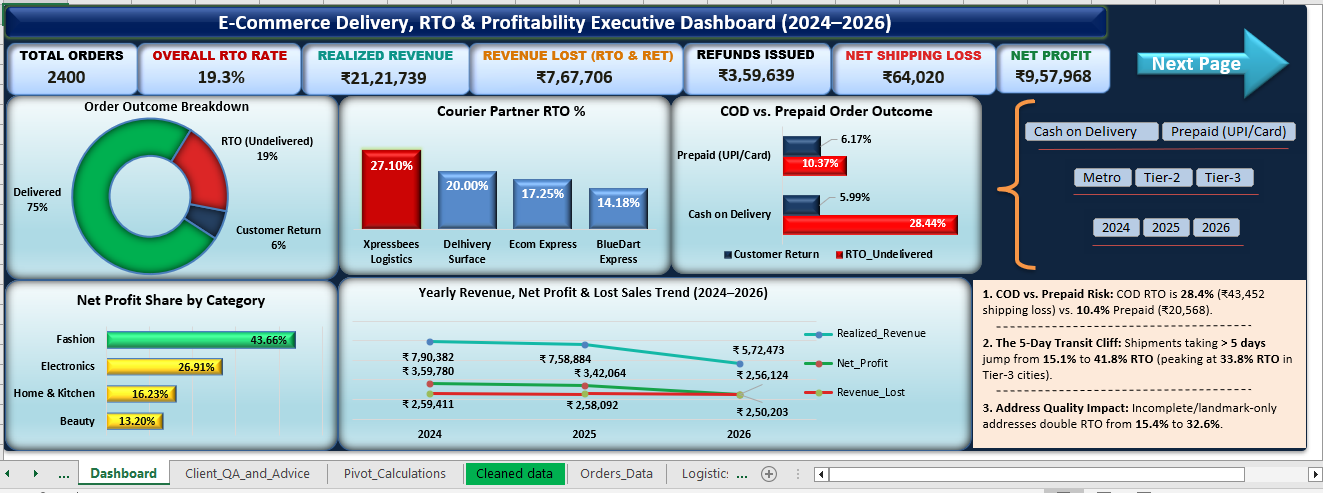

The page's visual inventory and layout, read from the dashboard file:
{"tool":"powerbi","page":{"name":"Executive Summary","canvas":[1920,1080],"ordinal":0},"visuals":[{"type":"cardVisual","fields":{"Data":["Measures_.TOTAL ORDERS"]},"box":[9.4,57,216.2,74.9],"z":0},{"type":"cardVisual","fields":{"Data":["Measures_.NET SHIPPING LOSS"]},"box":[312.5,133.9,263.6,74.4],"z":1000},{"type":"cardVisual","fields":{"Data":["Measures_.TOTAL REFUND ISSUED"]},"box":[8.6,134.8,299.7,74.9],"z":2000},{"type":"cardVisual","fields":{"Data":["Measures_.REVENUE LOST (RTO & RET)"]},"box":[761.4,57.8,351,74.9],"z":3000},{"type":"cardVisual","fields":{"Data":["Measures_.REALIZED REVENUE"]},"box":[493.4,57.8,263.3,74.9],"z":4000},{"type":"cardVisual","fields":{"Data":["Measures_.OVERALL RTO RATE"]},"box":[228.4,57.8,261.1,74.9],"z":5000},{"type":"cardVisual","fields":{"Data":["Measures_.TOTAL NET PROFIT"]},"box":[581,134.8,254.7,74.9],"z":6000},{"type":"shape","box":[4.3,0,1451.2,51.4],"z":7000},{"type":"shape","box":[1605.1,8,276.4,51],"z":8000},{"type":"slicer","fields":{"Values":["Customers_Master.City_Tier"]},"box":[1145.2,72.8,684.9,62.1],"z":9000},{"type":"slicer","fields":{"Values":["Orders_Data.Payment_Mode"]},"box":[1024.7,140.3,850.1,64.4],"z":10000},{"type":"donutChart","title":"ORDER OUTCOME BREAKDOWN","fields":{"Category":["Orders_Data.Order_Status"],"Y":["Measures_.TOTAL ORDERS"]},"box":[10.7,218.3,500.9,374.6],"z":11000},{"type":"clusteredColumnChart","title":"COURIER PARTNER RTO %","fields":{"Category":["Couriers_Master.Courier_Name"],"Y":["Measures_.OVERALL RTO RATE"]},"box":[522.3,218.3,500.9,374.6],"z":12000},{"type":"clusteredBarChart","title":"COD vs. PREPAID ORDER OUTCOME","fields":{"Category":["Orders_Data.Payment_Mode"],"Y":["Measures_.CUSTOMER RETURN RATE","Measures_.OVERALL RTO RATE"]},"box":[1038.1,218.3,500.9,374.6],"z":13000},{"type":"clusteredBarChart","title":"NET PROFIT SHARE BY CATEGORY","fields":{"Category":["Products_Master.Category"],"Y":["Measures_.NET PROFIT SHARE %"]},"box":[10.7,607.9,500.9,455.9],"z":14000},{"type":"lineChart","title":"YEARLY REVENUE, NET PROFIT & LOST SALES TREND (2024–2026)","fields":{"Category":["Orders_Data.Year"],"Y":["Measures_.REALIZED REVENUE","Measures_.TOTAL NET PROFIT","Measures_.REVENUE LOST (RTO & RET)"]},"box":[518,607.9,680.7,455.9],"z":15000},{"type":"shape","box":[1217.4,608.7,683.8,455.9],"z":16000},{"type":"textbox","box":[1236.2,627.5,665,437.1],"z":17000},{"type":"slicer","title":"Year","fields":{"Values":["Orders_Data.Year"]},"box":[1605.1,287,246.6,214.7],"z":18000}]}

Visuals, with their boxes on the page's 1920x1080 design canvas (x1, y1, x2, y2). These are canvas units, not pixel positions in the 1323x493 screenshot, which may show the page scaled, cropped or inside an application window:
cardVisual - Measures_.TOTAL ORDERS: l=9, t=57, r=226, b=132
cardVisual - Measures_.NET SHIPPING LOSS: l=312, t=134, r=576, b=208
cardVisual - Measures_.TOTAL REFUND ISSUED: l=9, t=135, r=308, b=210
cardVisual - Measures_.REVENUE LOST (RTO & RET): l=761, t=58, r=1112, b=133
cardVisual - Measures_.REALIZED REVENUE: l=493, t=58, r=757, b=133
cardVisual - Measures_.OVERALL RTO RATE: l=228, t=58, r=490, b=133
cardVisual - Measures_.TOTAL NET PROFIT: l=581, t=135, r=836, b=210
shape: l=4, t=0, r=1456, b=51
shape: l=1605, t=8, r=1882, b=59
slicer - Customers_Master.City_Tier: l=1145, t=73, r=1830, b=135
slicer - Orders_Data.Payment_Mode: l=1025, t=140, r=1875, b=205
"ORDER OUTCOME BREAKDOWN" donutChart: l=11, t=218, r=512, b=593
"COURIER PARTNER RTO %" clusteredColumnChart: l=522, t=218, r=1023, b=593
"COD vs. PREPAID ORDER OUTCOME" clusteredBarChart: l=1038, t=218, r=1539, b=593
"NET PROFIT SHARE BY CATEGORY" clusteredBarChart: l=11, t=608, r=512, b=1064
"YEARLY REVENUE, NET PROFIT & LOST SALES TREND (2024–2026)" lineChart: l=518, t=608, r=1199, b=1064
shape: l=1217, t=609, r=1901, b=1065
textbox: l=1236, t=628, r=1901, b=1065
"Year" slicer: l=1605, t=287, r=1852, b=502
